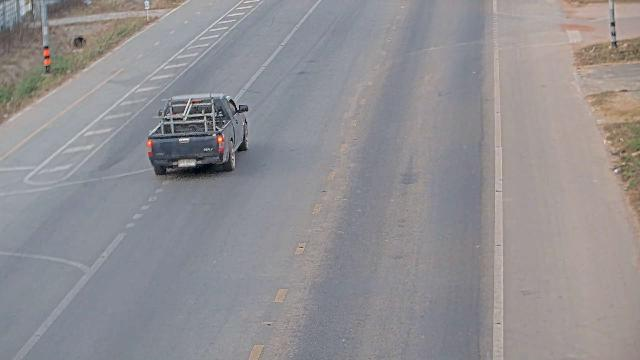pickup-truck: (145, 92, 249, 175)
